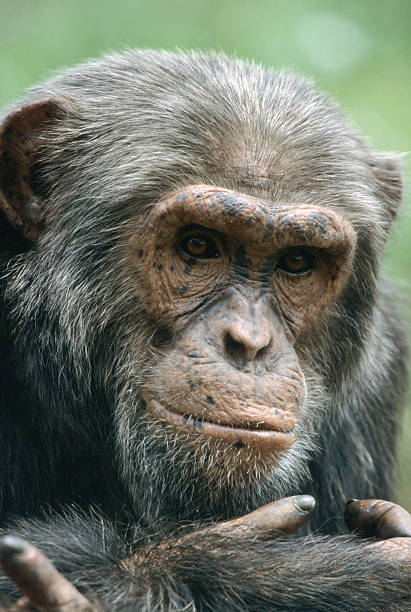chimpanzee: (1, 41, 411, 586)
